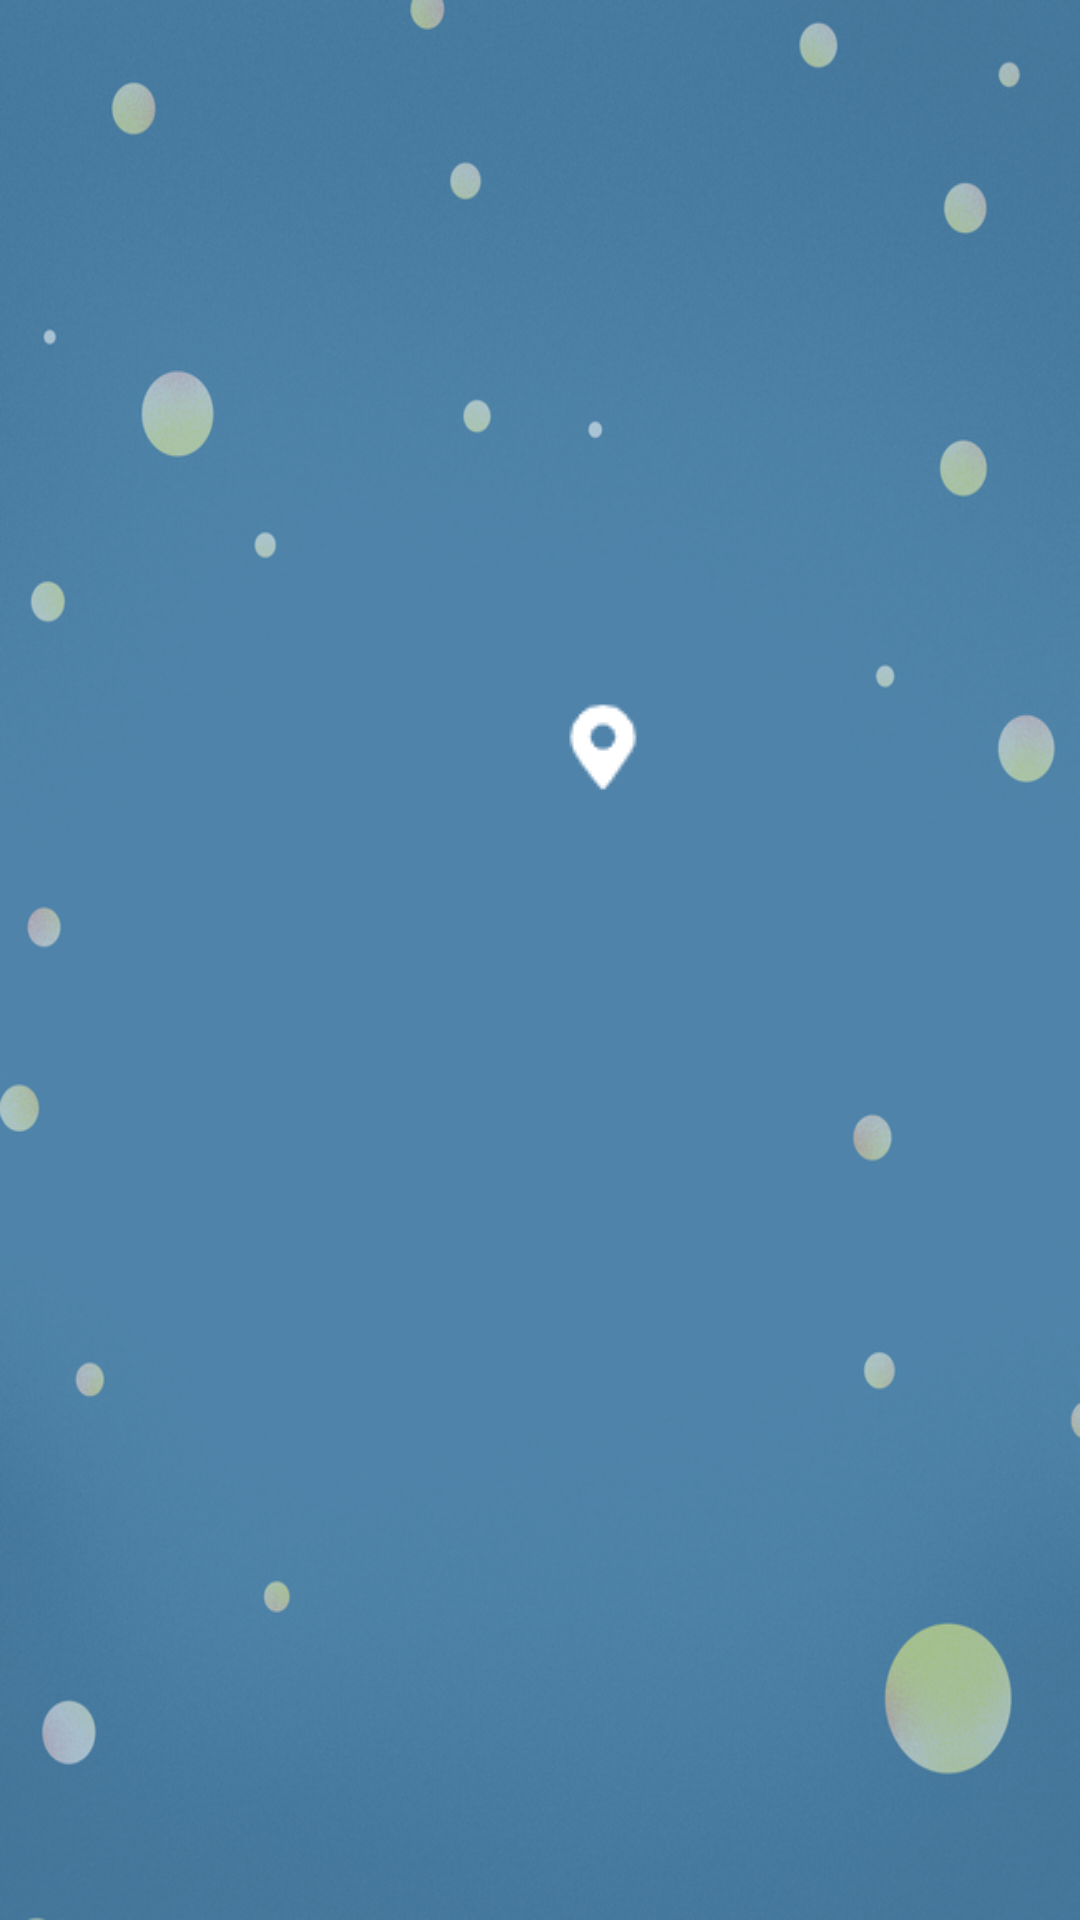

Locate icon controls on the screen. Image size 1080 x 1920, boxes as (x1,y1,x2,y2).
position: (569,704,637,790)
